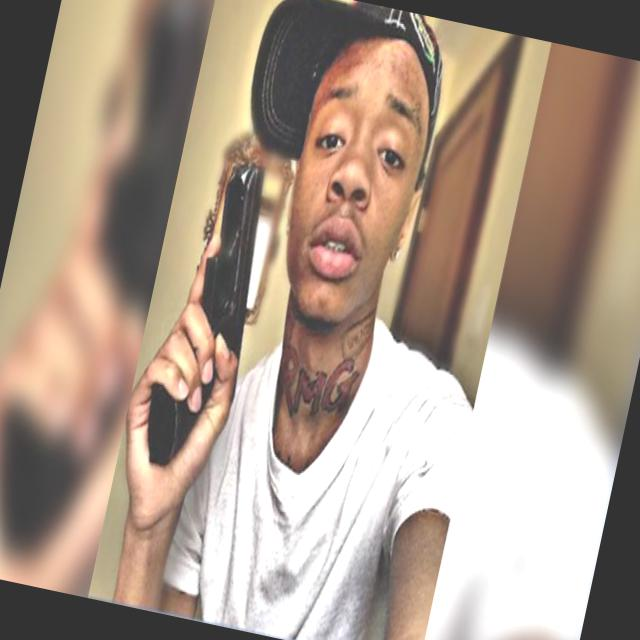handgun: (140, 152, 284, 468)
